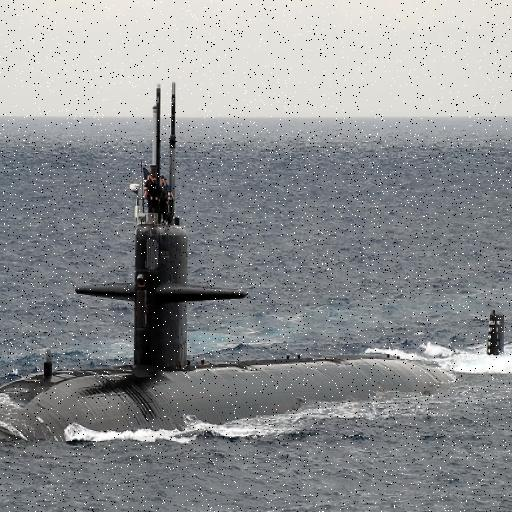submarine: (1, 84, 506, 441)
